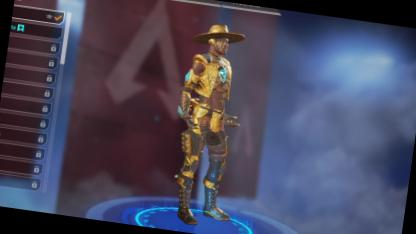Target: (173, 19, 252, 194)
